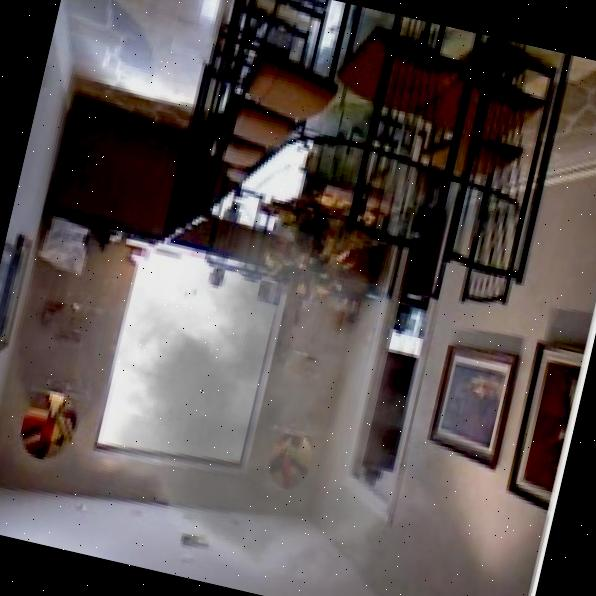smoke: (45, 186, 498, 596)
